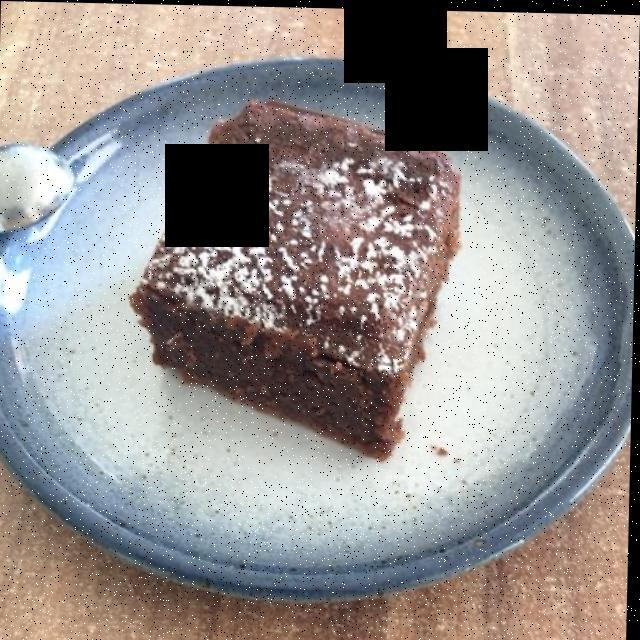cake: (135, 101, 459, 443)
